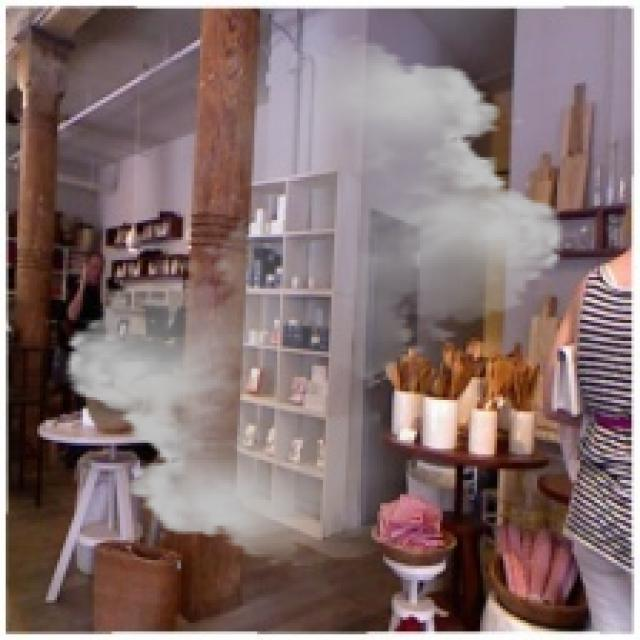smoke: (49, 34, 580, 566)
